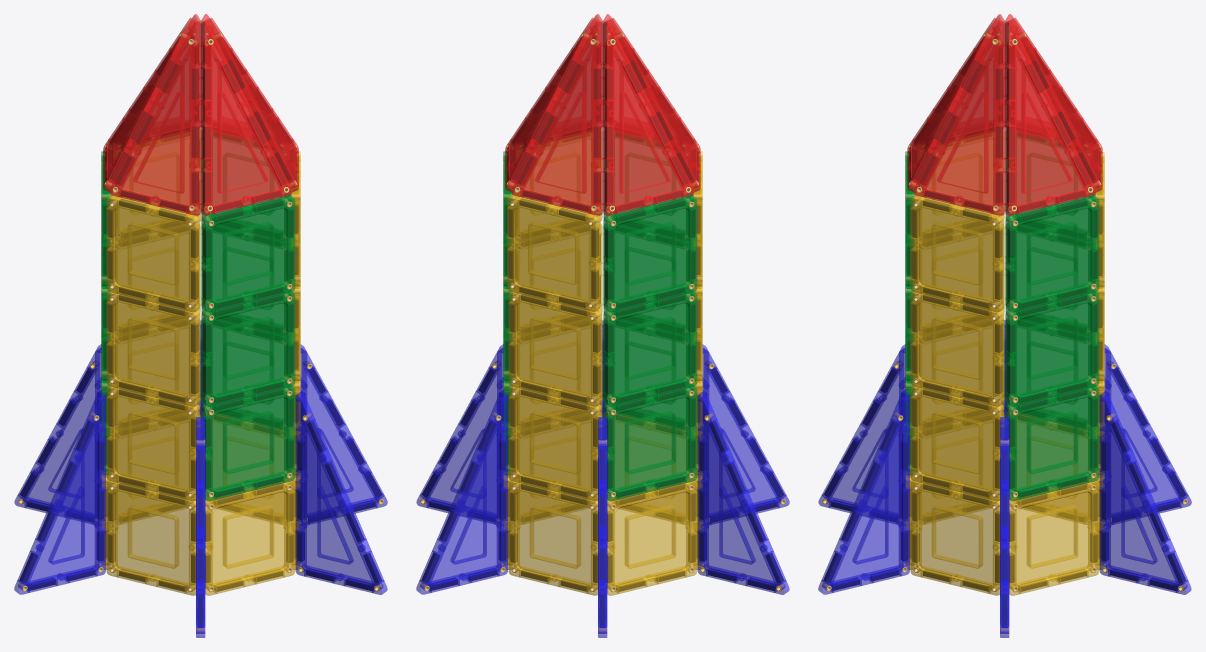
The model's file is Rocket.glb.
The picture shows the model from 3 angles, left to right: view 1: azimuth 30°, elevation 25°; view 2: azimuth 150°, elevation 25°; view 3: azimuth 270°, elevation 25°; orthographic projection.
Parts seen in each view (by area): view 1: LT_027, LT_017, RLT_007, RLT_005, Square137, Square133, Square125, Square121, Square113, Square109, Square101, Square097 (+36 smaller); view 2: LT_025, LT_023, RLT_005, RLT_013, Square135, Square143, Square123, Square131, Square111, Square119, Square099, Square107 (+36 smaller); view 3: LT_019, LT_021, RLT_013, RLT_007, Square141, Square139, Square129, Square127, Square117, Square115, Square105, Square103 (+36 smaller).
Part boxes in pixels (<box>): LT_027: <box>109,21,200,215</box>; LT_017: <box>201,21,292,215</box>; RLT_007: <box>295,391,387,594</box>; RLT_005: <box>14,391,105,594</box>; Square137: <box>201,195,295,312</box>; Square133: <box>106,195,200,312</box>; Square125: <box>201,290,295,406</box>; Square121: <box>106,290,200,406</box>; Square113: <box>201,384,295,501</box>; Square109: <box>106,384,200,501</box>; Square101: <box>205,479,295,595</box>; Square097: <box>106,479,195,595</box>; LT_025: <box>603,21,694,215</box>; LT_023: <box>511,21,602,215</box>; RLT_005: <box>697,391,789,594</box>; RLT_013: <box>416,391,508,594</box>; Square135: <box>603,195,697,312</box>; Square143: <box>506,195,600,311</box>; Square123: <box>603,290,697,406</box>; Square131: <box>508,289,602,406</box>; Square111: <box>603,384,697,501</box>; Square119: <box>508,384,602,501</box>; Square099: <box>607,479,697,595</box>; Square107: <box>508,479,597,595</box>; LT_019: <box>913,21,1004,215</box>; LT_021: <box>1005,21,1096,215</box>; RLT_013: <box>1099,391,1191,594</box>; RLT_007: <box>818,391,909,594</box>; Square141: <box>1005,195,1099,312</box>; Square139: <box>910,195,1004,312</box>; Square129: <box>1005,290,1099,406</box>; Square127: <box>910,290,1004,406</box>; Square117: <box>1005,384,1099,501</box>; Square115: <box>910,384,1004,501</box>; Square105: <box>1009,479,1099,595</box>; Square103: <box>910,479,999,595</box>.
Bounding box in the file's own units: 0.3075 × 0.4231 × 0.2695.
Materials: 6 (6 with a texture image).
